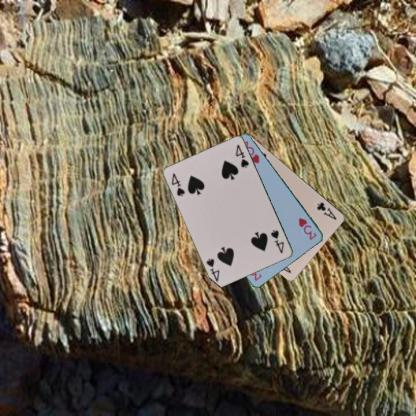3h: (295, 215, 318, 241)
4s: (268, 227, 286, 255), (168, 170, 186, 198)
Ac: (314, 200, 338, 222)
